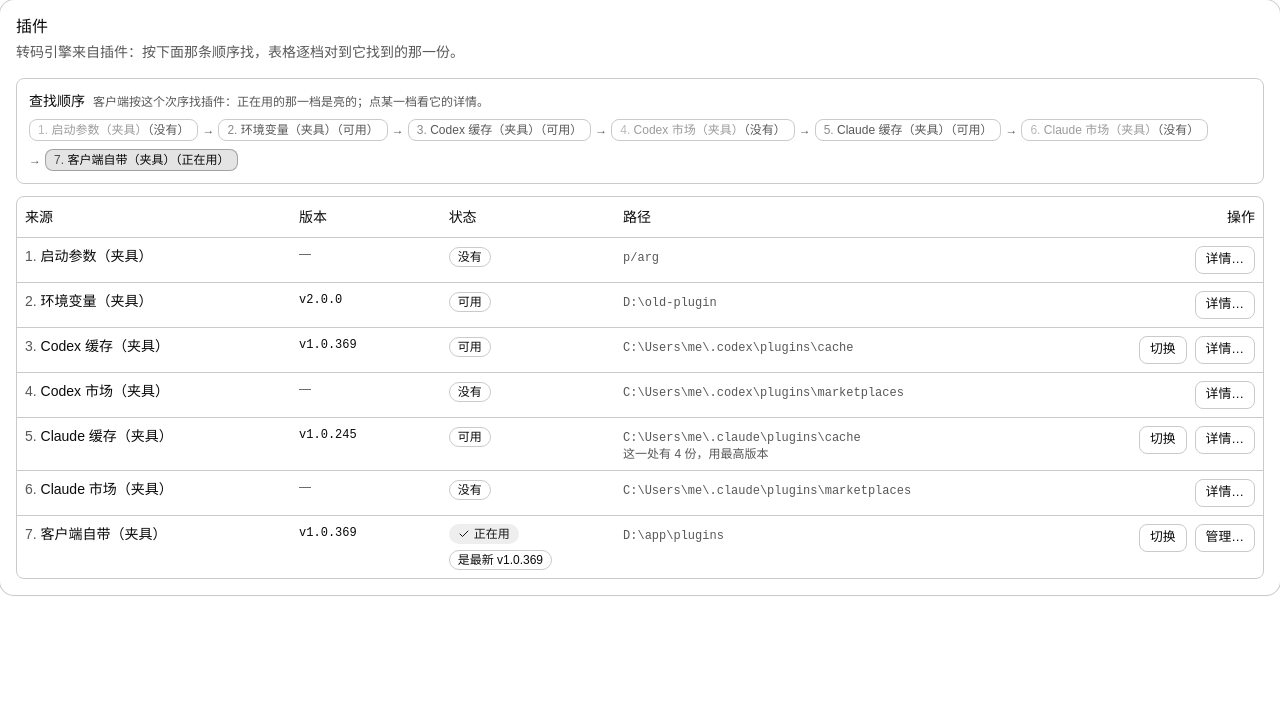
Scenario: PluginCard › 自带那一行写着它自己的更新状态，点「管理…」开面板
Step 1. Click the button "管理…" → (1225, 538), box [1195, 524, 1255, 552]
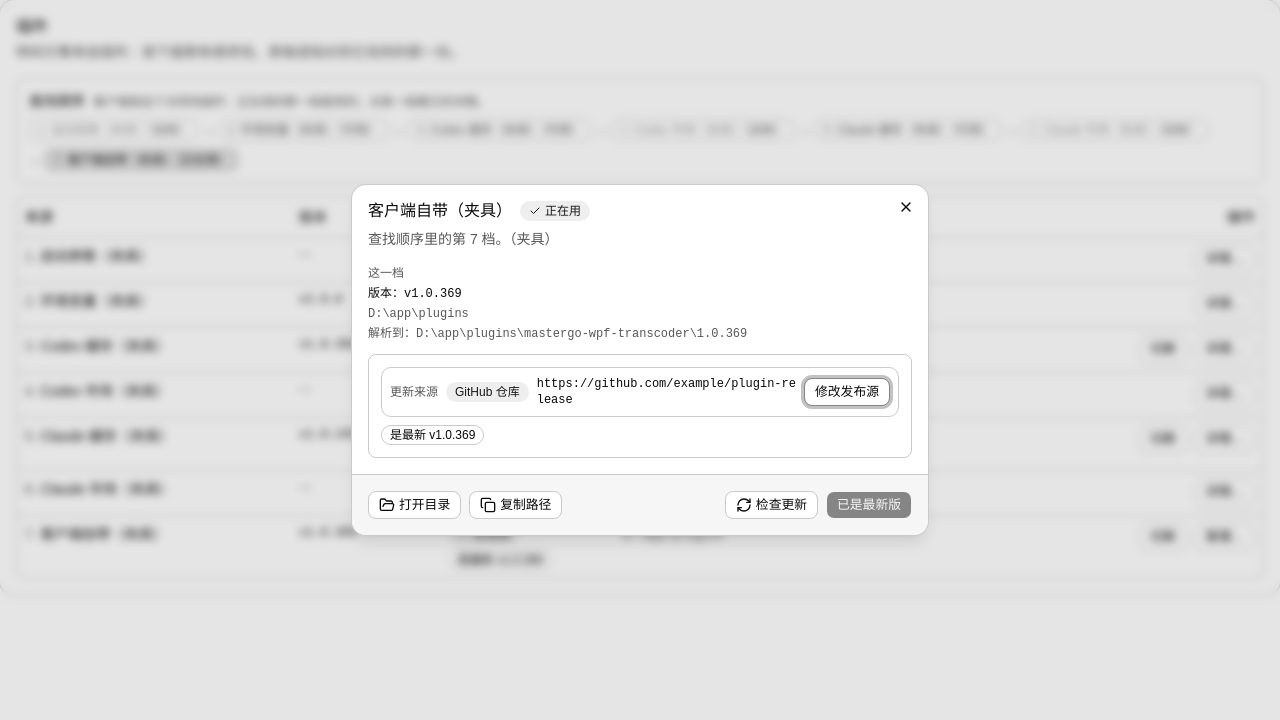
Now the heading "客户端自带（夹具） 正在用" is shown, box [368, 201, 590, 221]
Now the button "修改发布源" is shown, box [804, 378, 890, 406]
Now the button "已是最新版" is shown, box [826, 491, 912, 519]
